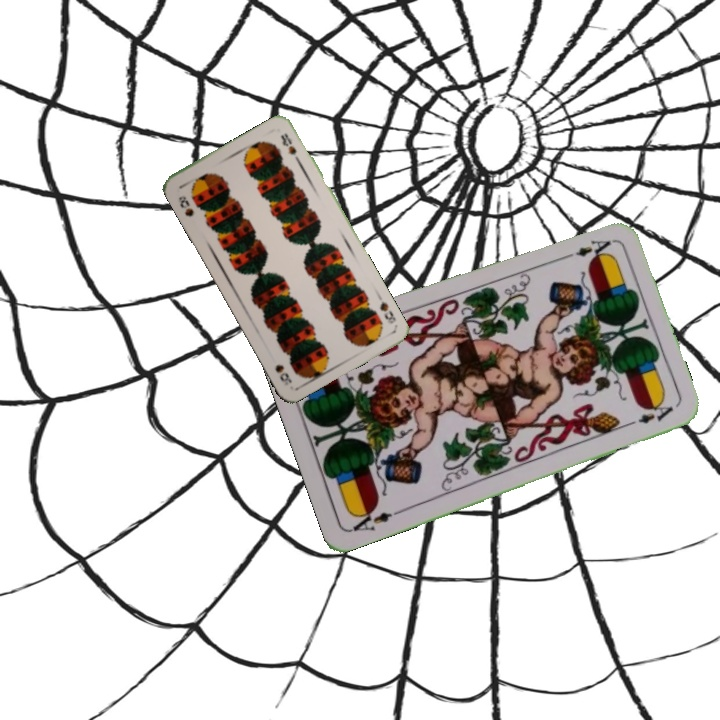EA: (347, 504, 404, 535), (558, 236, 613, 263)
S8: (375, 297, 399, 327), (174, 191, 196, 219)
